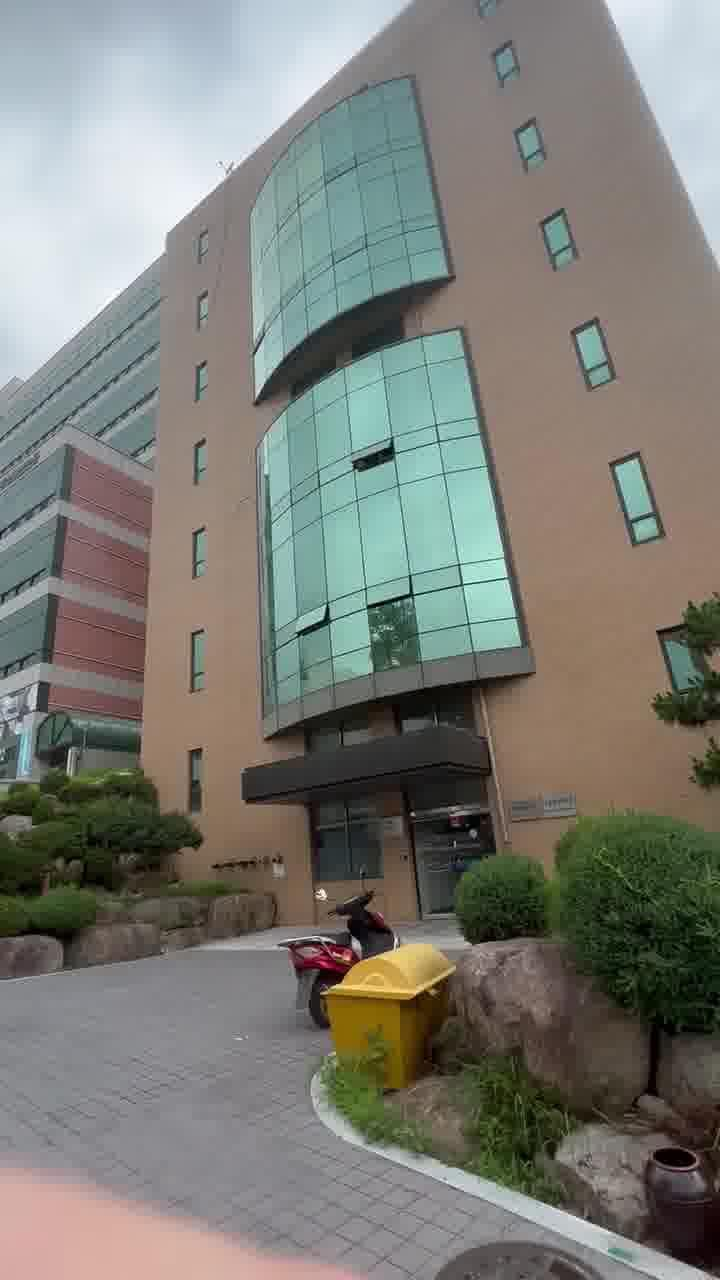building: (132, 72, 638, 818)
